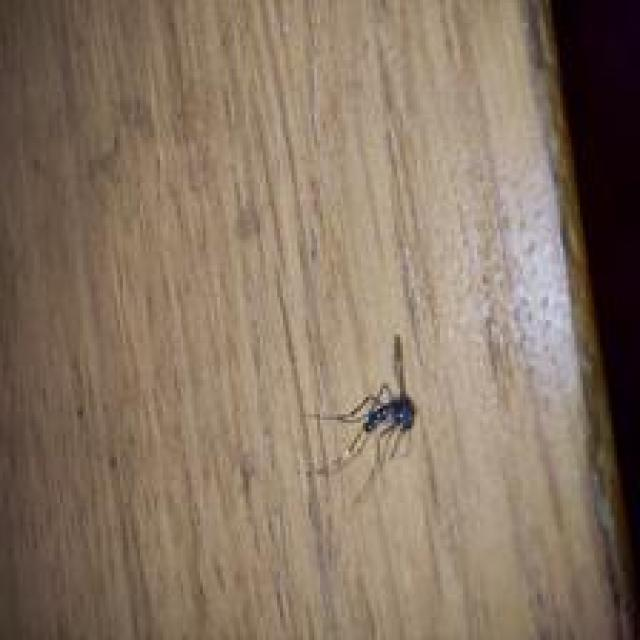Aedes albopictus: (300, 333, 417, 481)
